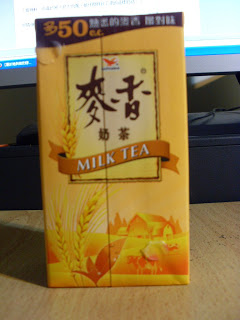milk tea: (34, 16, 191, 286)
